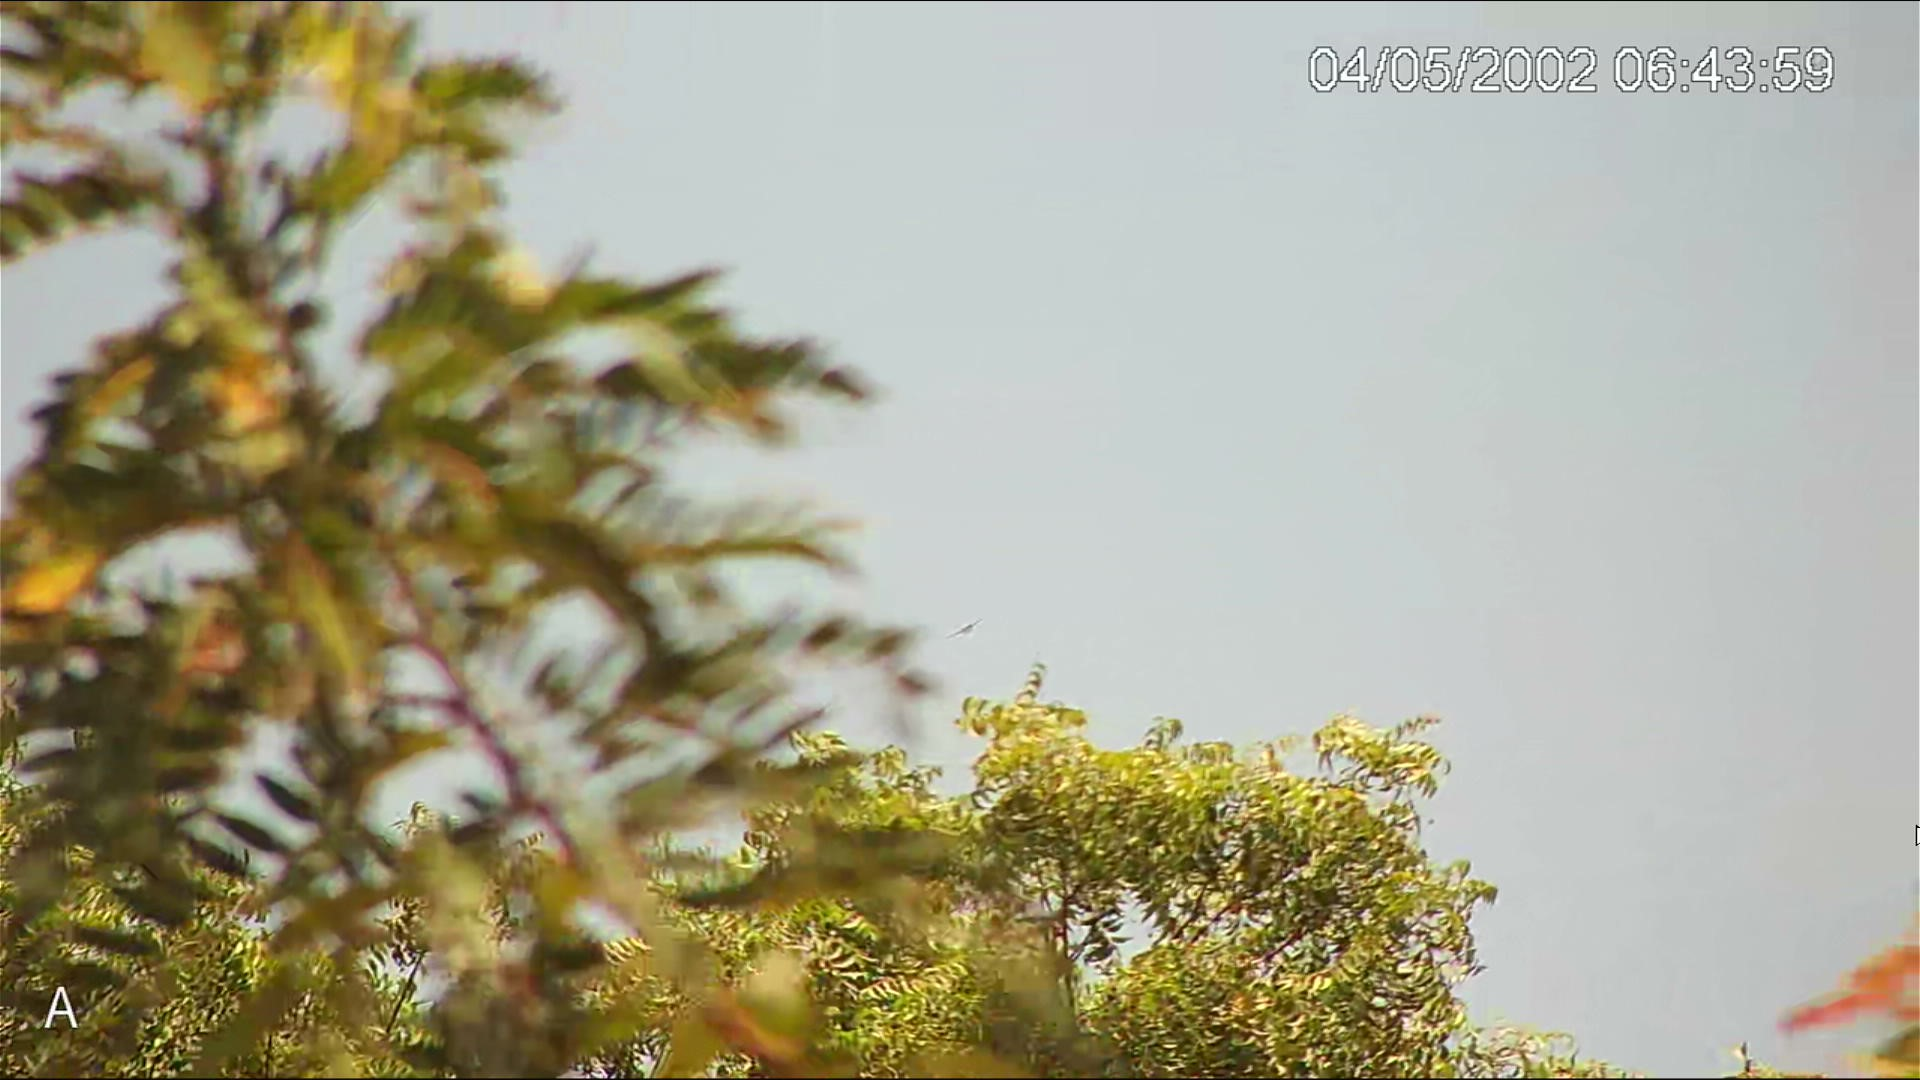SU_30: (945, 620, 984, 640)
